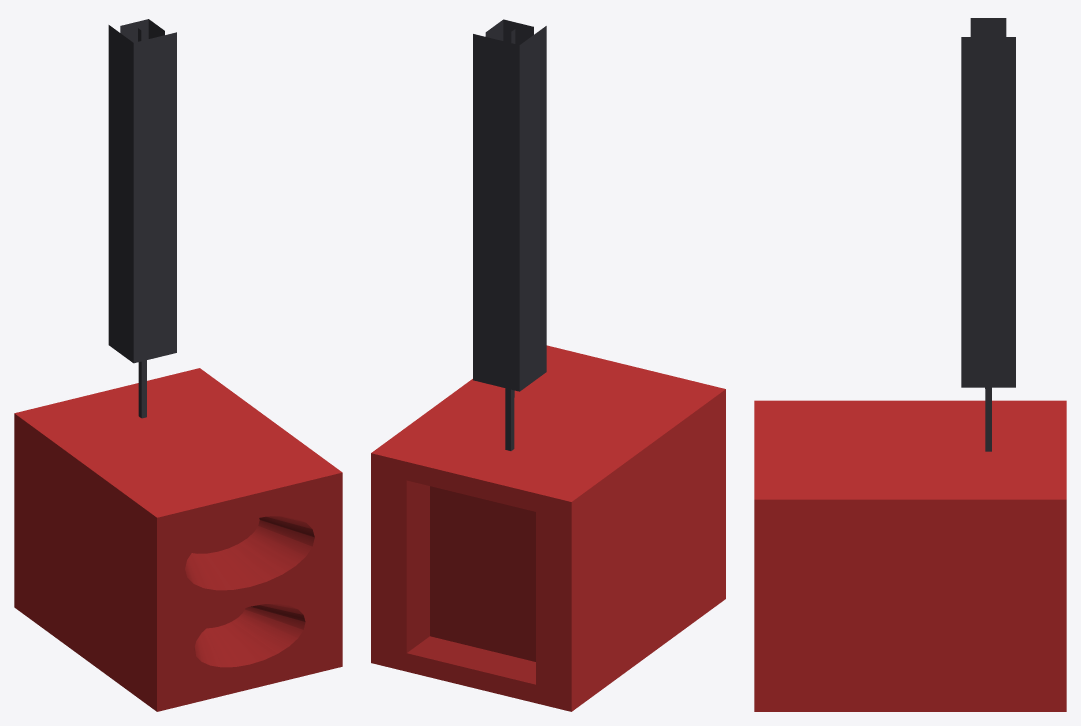
The model's file is Item_Vacuum.glb.
3 renders of one model, left to right at view 1: azimuth 30°, elevation 25°; view 2: azimuth 150°, elevation 25°; view 3: azimuth 270°, elevation 25°, orthographic. The views are drawn at different scales.
Parts seen in each view (by area): view 1: Item_Vacuum; view 2: Item_Vacuum; view 3: Item_Vacuum.
Boxes of the visible parts, x1,y1,x2,y2 form: Item_Vacuum: (14, 19, 342, 711); Item_Vacuum: (371, 19, 725, 711); Item_Vacuum: (754, 18, 1066, 711).
Size of the model in its own units: 0.3 by 0.9 by 0.4.
